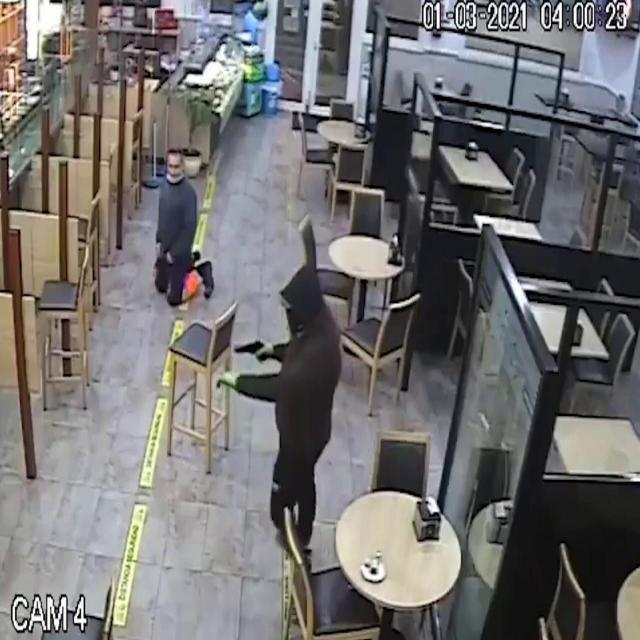weapon: (228, 322, 274, 374)
